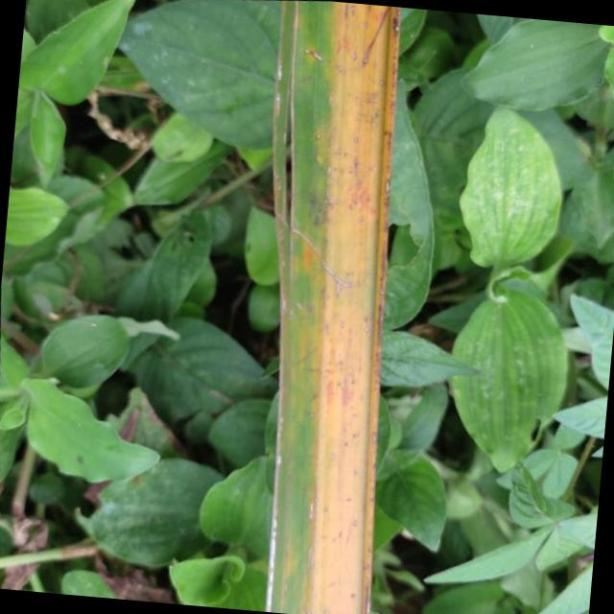Megnesium: (265, 0, 395, 614)
